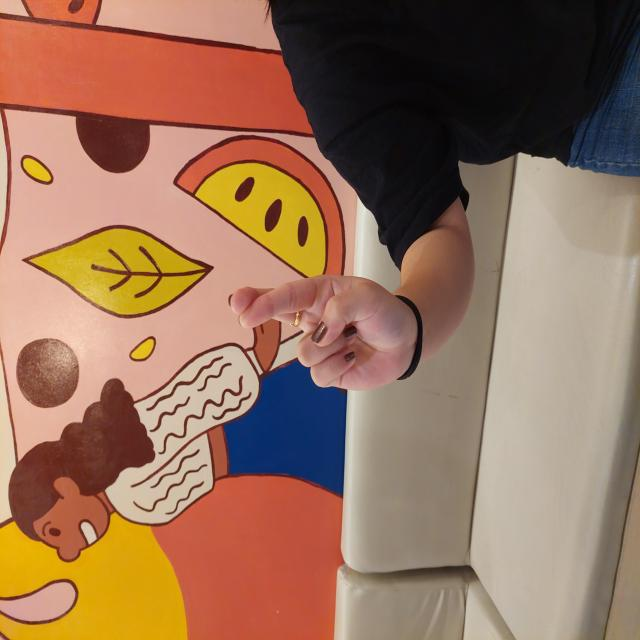R: (246, 225, 368, 414)
